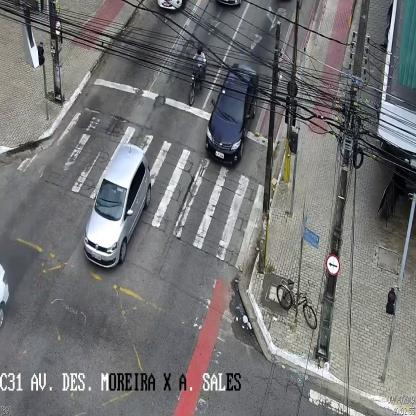bicycle: (276, 275, 316, 329)
car: (84, 142, 150, 269), (205, 64, 256, 168)
motorbike: (188, 45, 206, 108)
